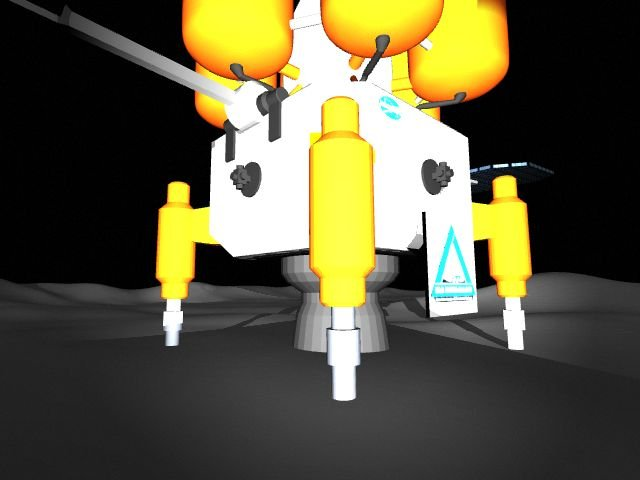basemarker: (428, 221, 478, 303)
